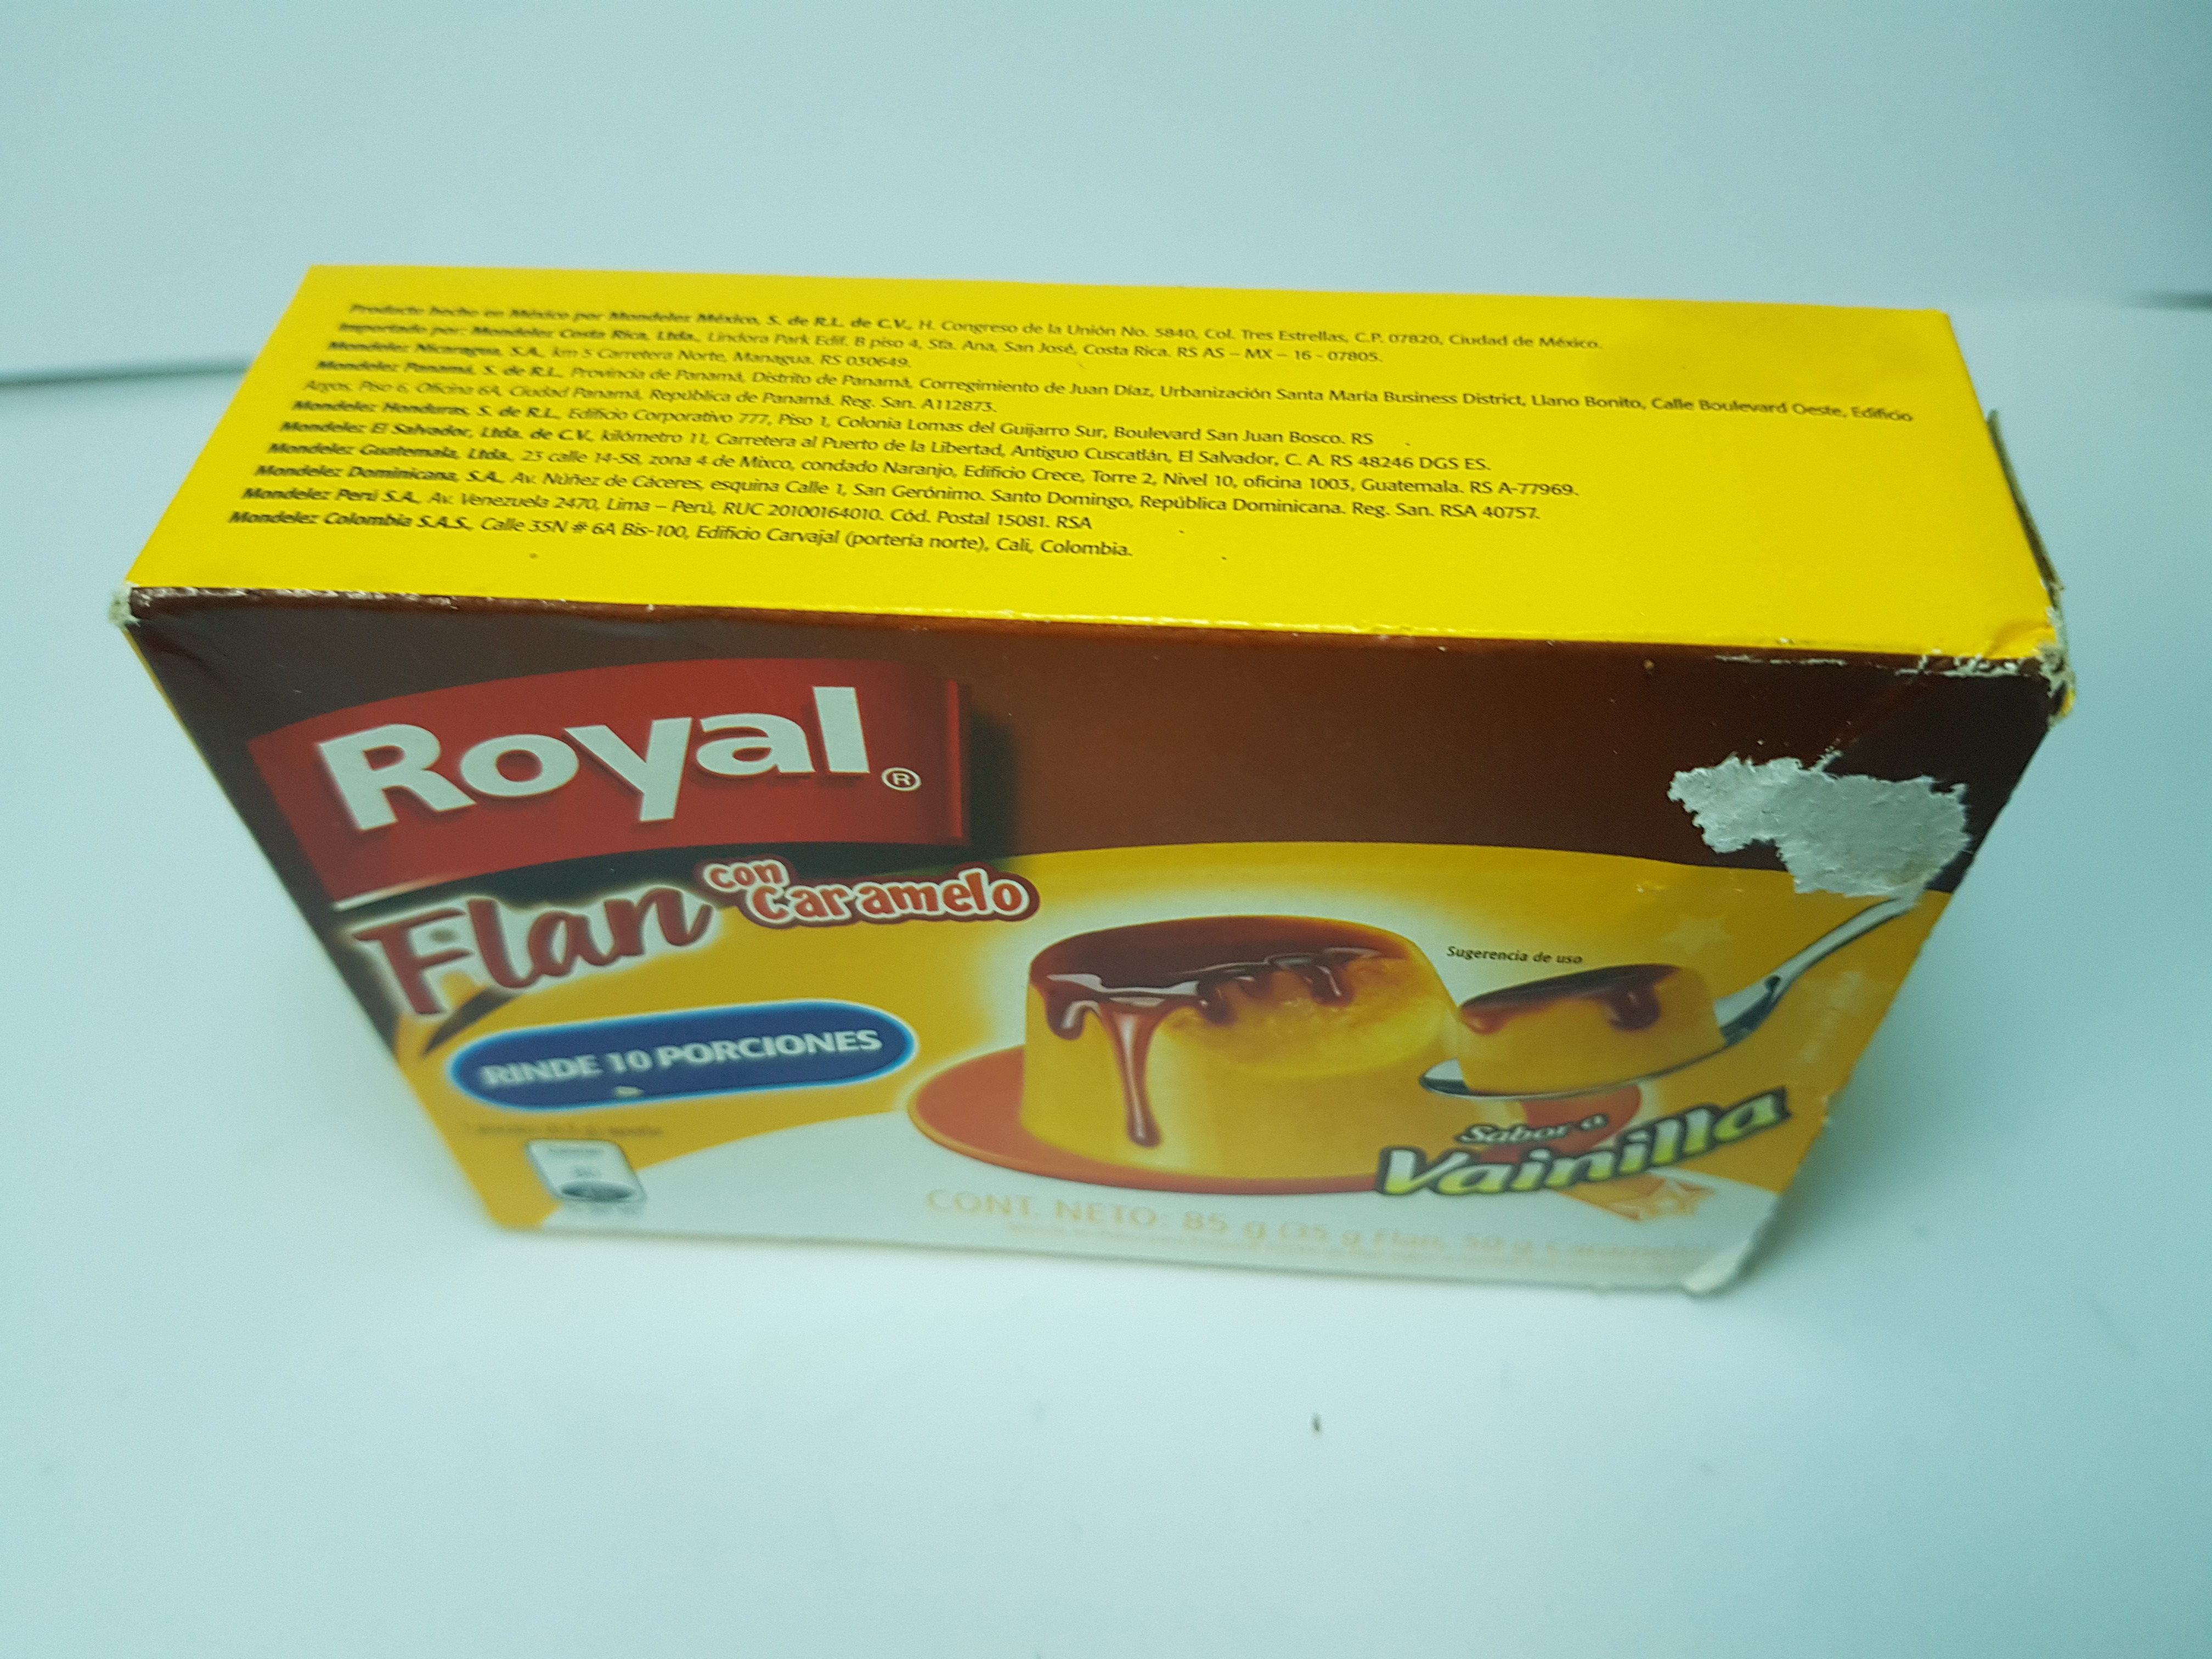flan: (105, 234, 2097, 1324)
